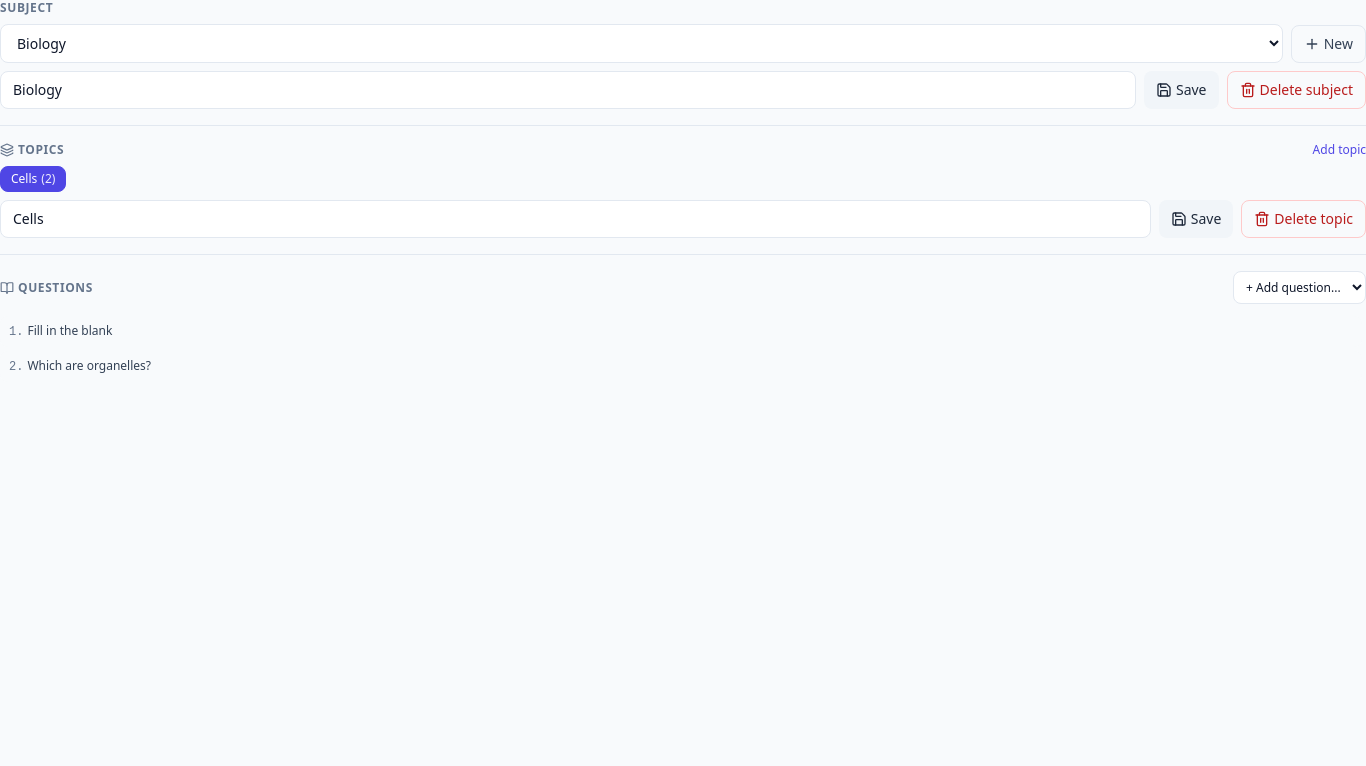
Scenario: ContentEditor › does not save a question that is not valid yet, and says why
Click the button "2.Which are organelles?" at (89, 366), box [0,351,1362,382]
(page scrolled)
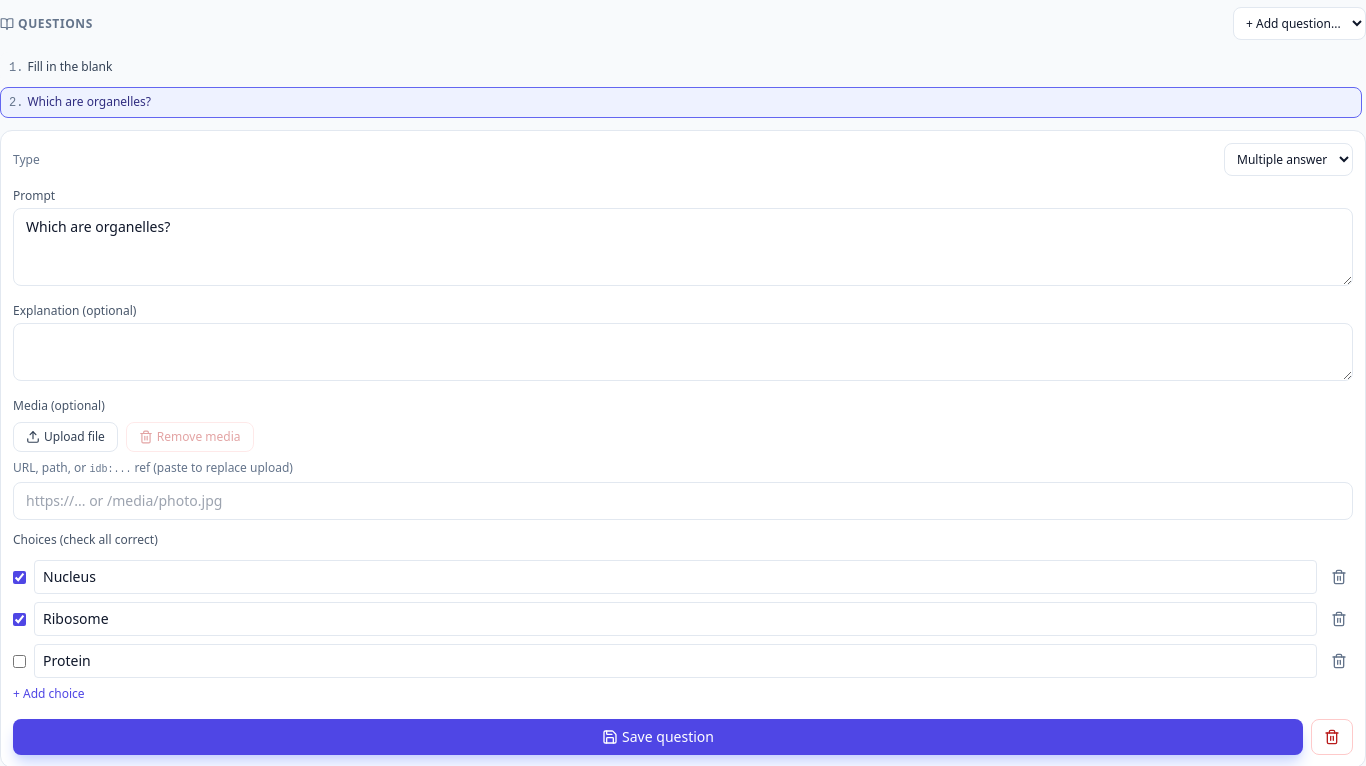
Click the checkbox named "Choice 1 is correct" at (20, 577), box [13,570,26,584]
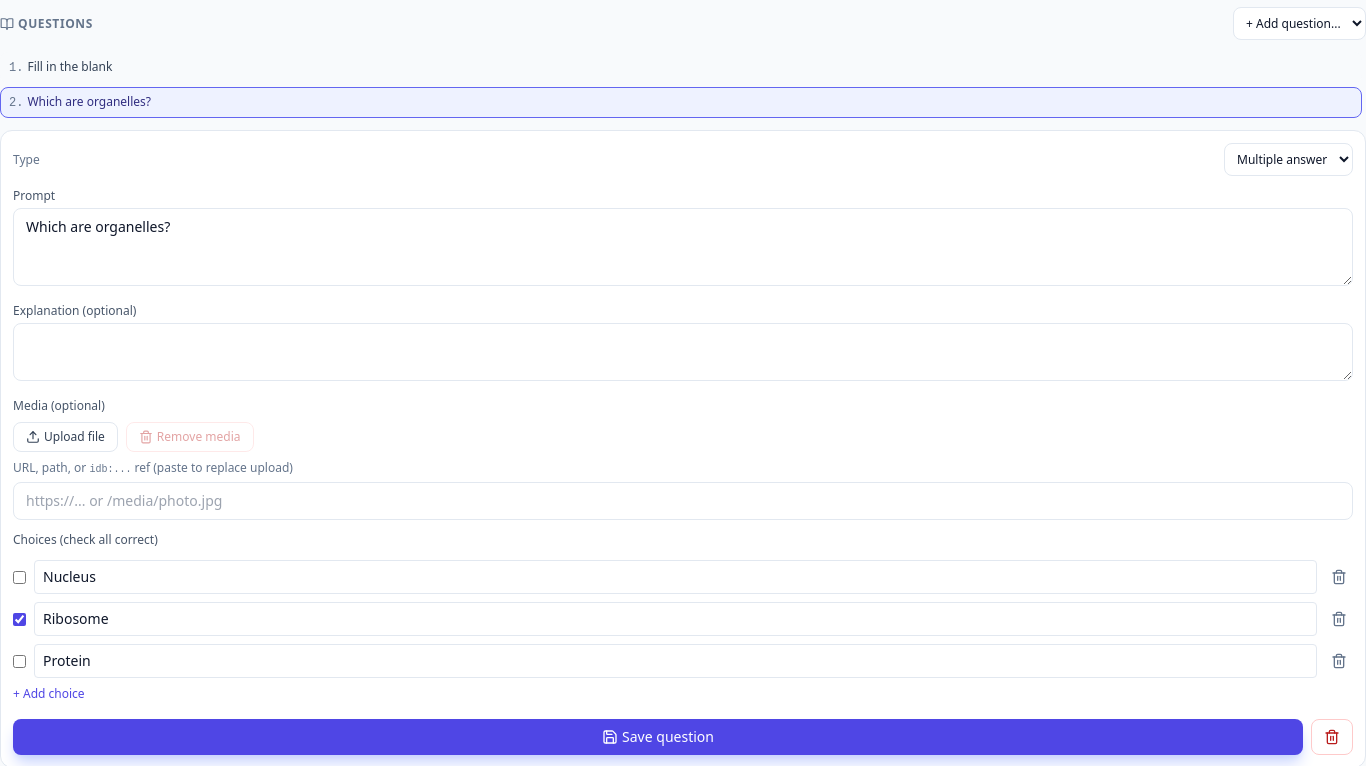
Click the checkbox named "Choice 2 is correct" at (20, 619), box [13,612,26,626]
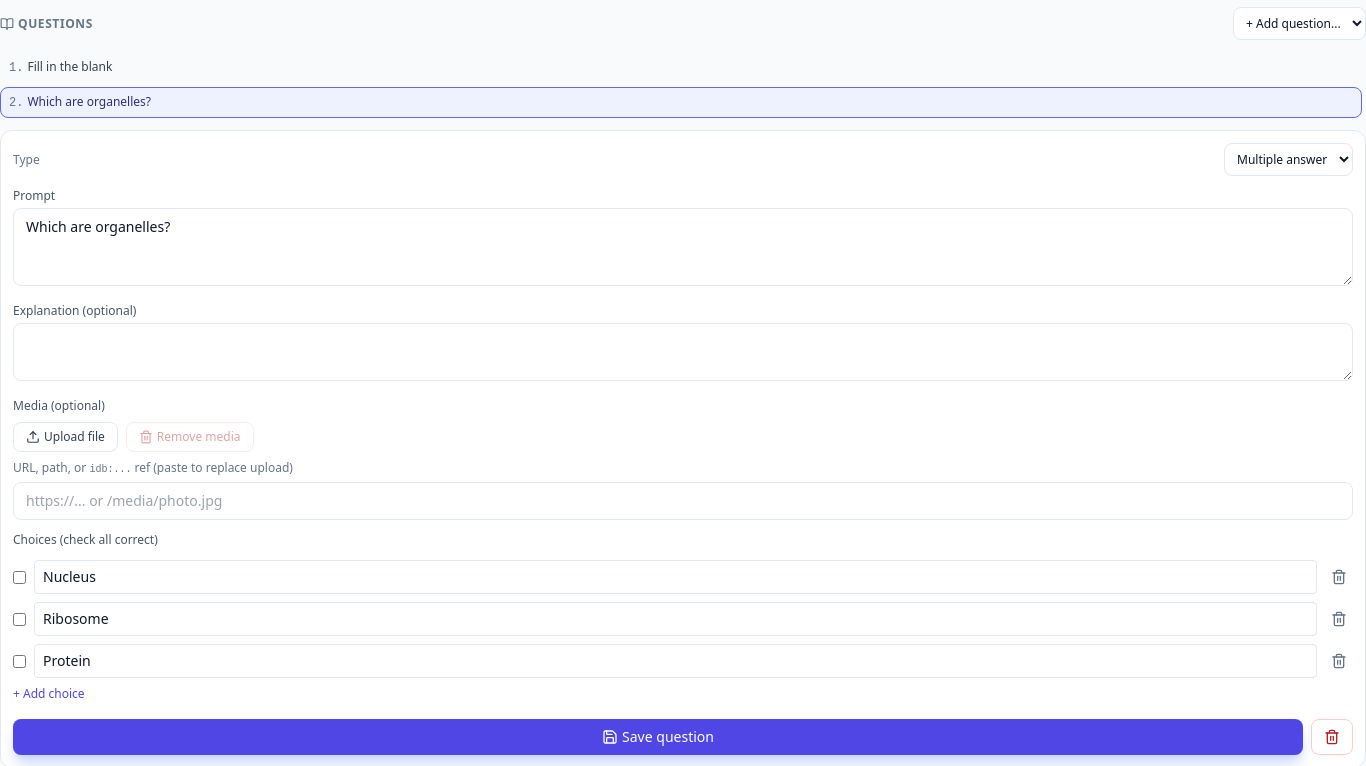
Click the button "Save question" at (658, 737), box [13,719,1303,755]
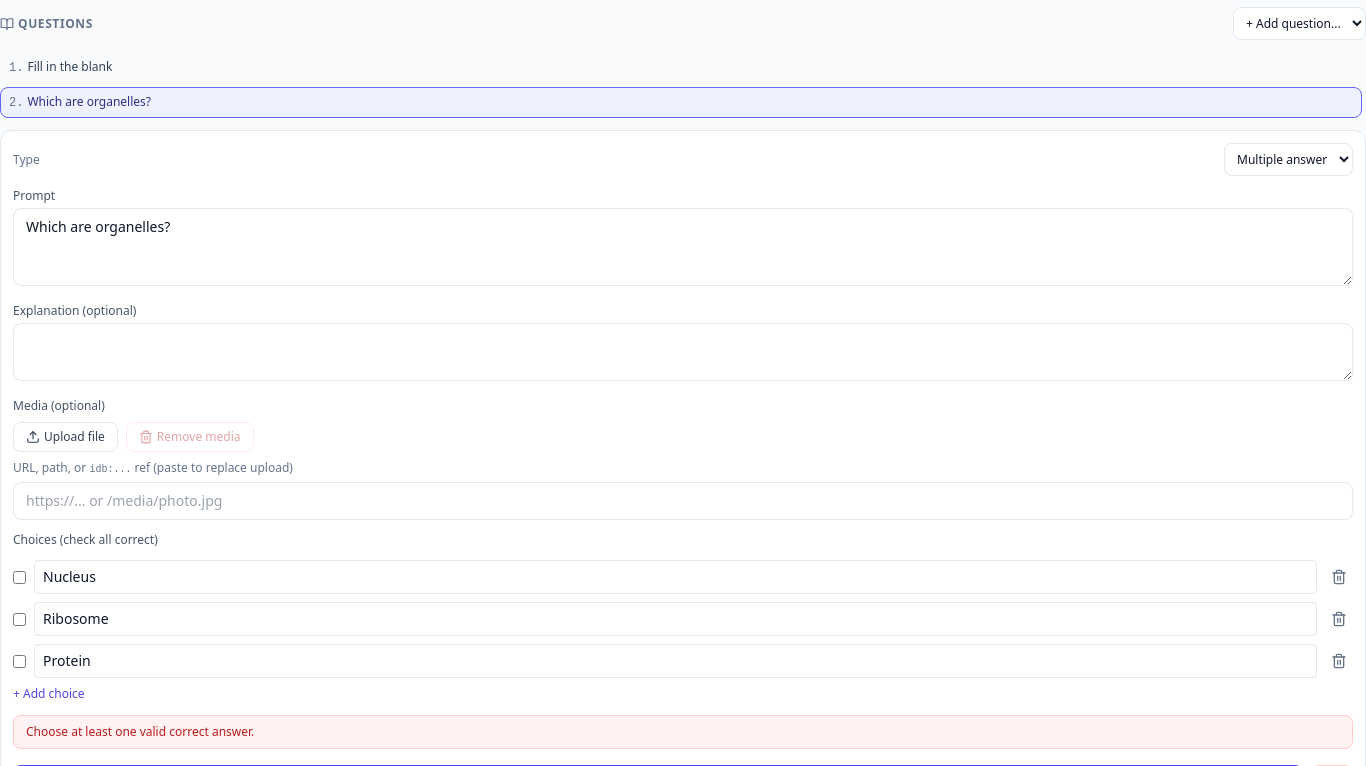
Check: the message reads "Choose at least one valid correct answer.", box [26,723,254,740]
